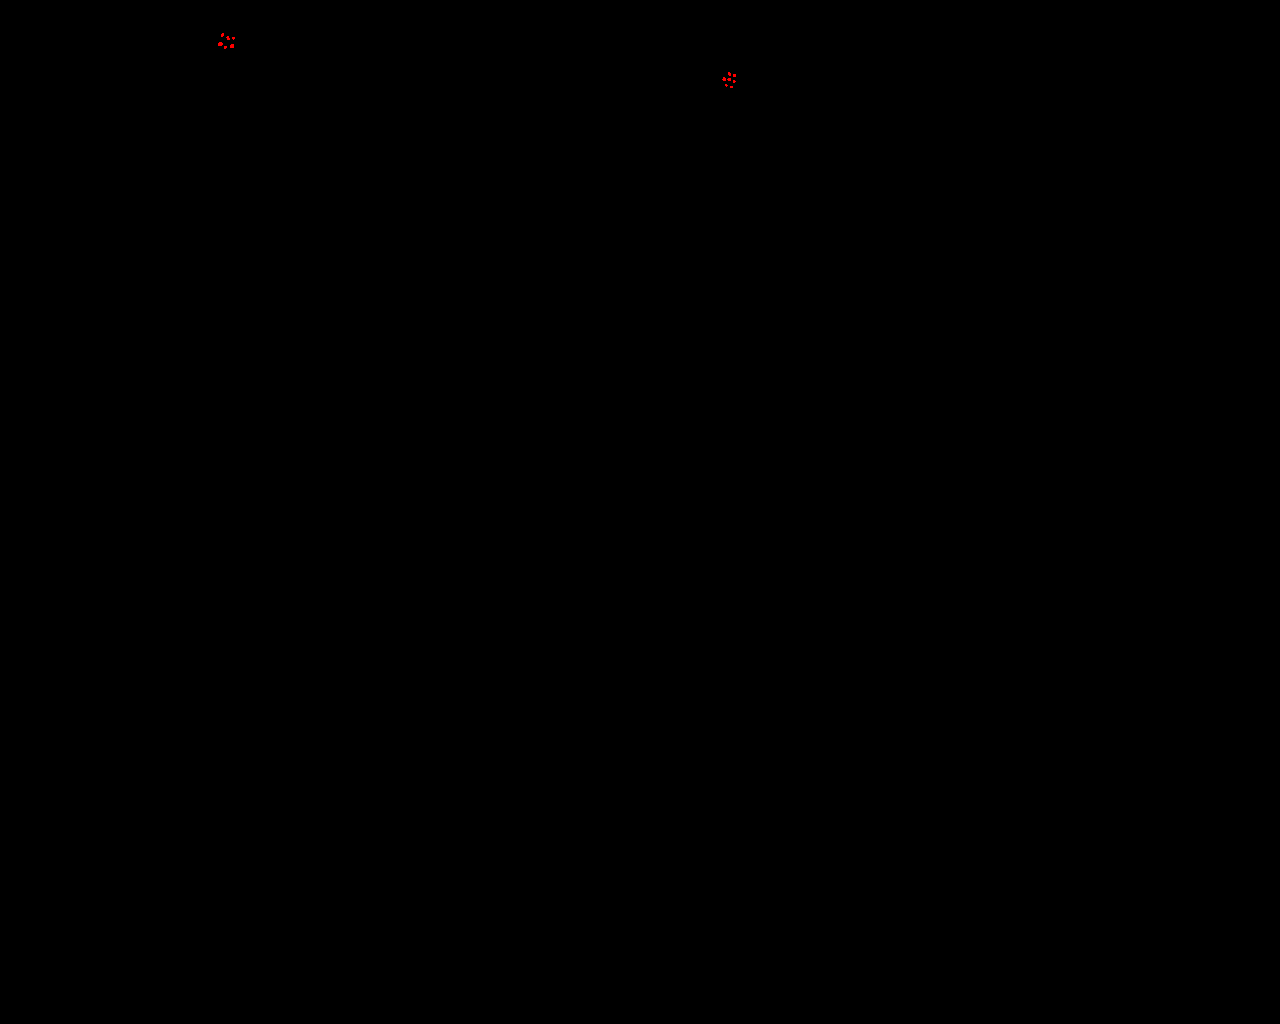Target: (226, 36, 230, 40), (218, 42, 223, 46), (230, 44, 234, 48), (722, 77, 726, 82), (728, 72, 731, 76), (727, 78, 731, 82), (232, 37, 235, 40), (224, 46, 227, 49), (725, 84, 728, 87), (222, 33, 224, 37), (734, 74, 736, 77), (730, 86, 734, 88), (734, 80, 736, 83)
